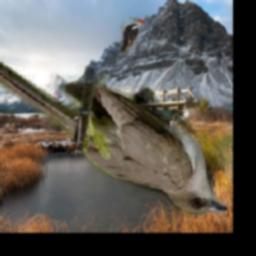Cuckoo: (0, 55, 228, 216)
Woodpecker: (120, 16, 145, 53)
